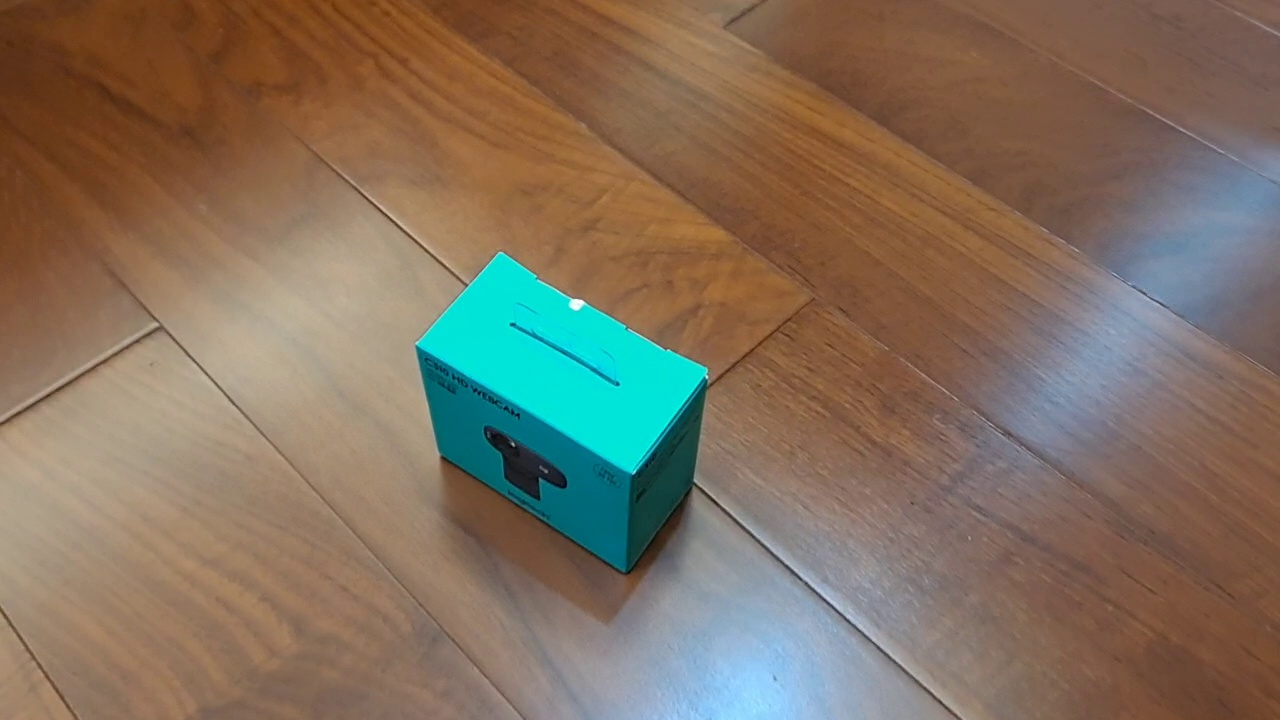webcam: (414, 249, 710, 576)
